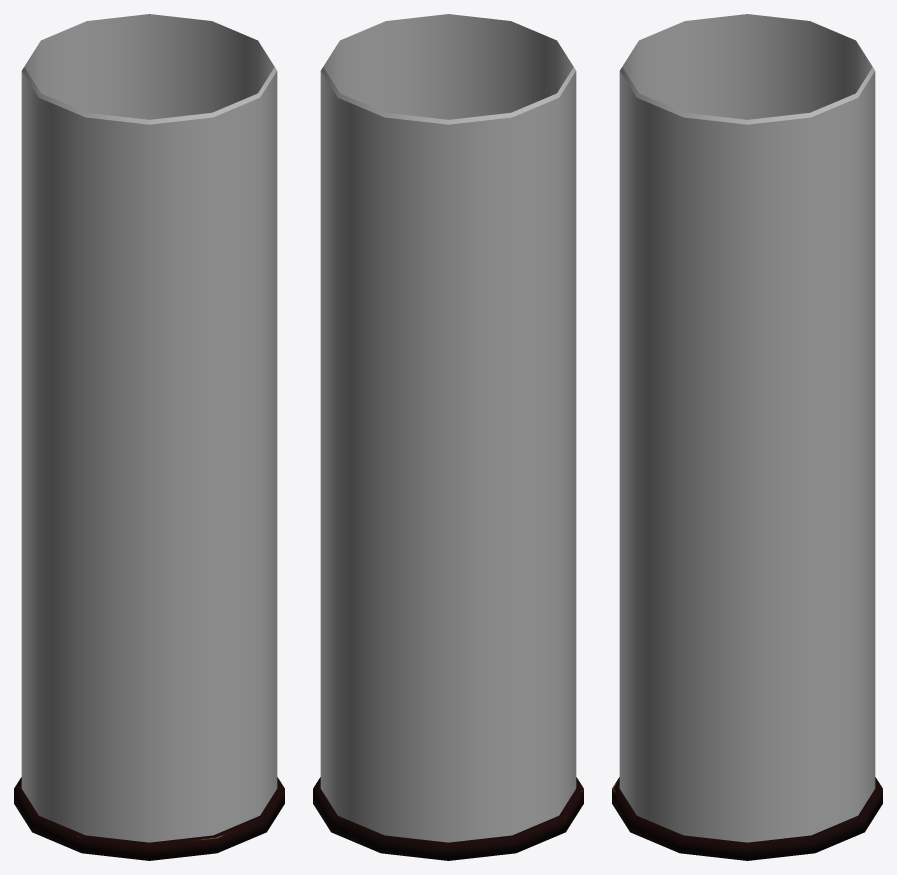
3 renders of one model, left to right at view 1: azimuth 30°, elevation 25°; view 2: azimuth 150°, elevation 25°; view 3: azimuth 270°, elevation 25°, orthographic.
Visible parts, largest first — view 1: Tube; view 2: Tube; view 3: Tube.
Part boxes in pixels (x1,y1,x2,y2): Tube: [14, 14, 284, 860]; Tube: [313, 14, 583, 860]; Tube: [612, 14, 882, 860].
Size of the model in its own units: 200 by 600 by 200.
Materials: 1 (1 with a texture image).
